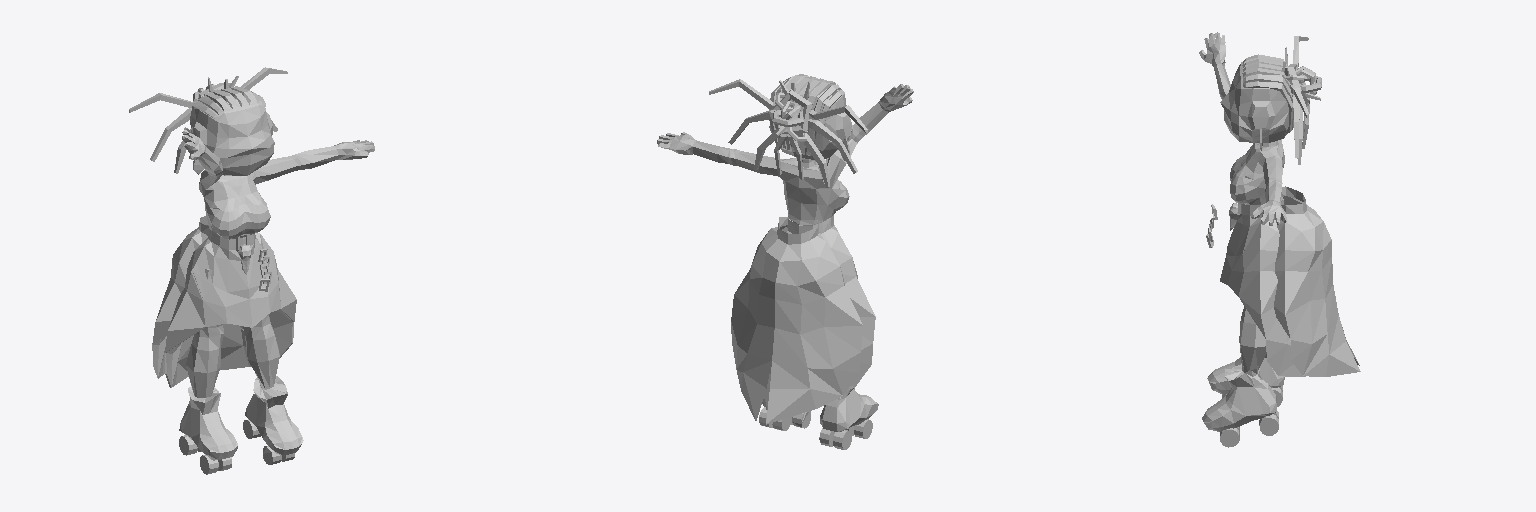
Rendered from WitchFINAL2_000031.obj.
3 views of the same model, side by side, from view 1: azimuth 30°, elevation 25°; view 2: azimuth 150°, elevation 25°; view 3: azimuth 270°, elevation 25° (orthographic).
Visible parts, largest first — view 1: Body_Cylinder, Torso(Boobies)_Cylinder.002, LegR_Cube.004, LegL_Cube.003, Head_Cylinder.004, ZBody_Cylinder.001, Hair_Cylinder.006, Tail.001_Torus.001; view 2: ZBody_Cylinder.001, Torso(Boobies)_Cylinder.002, Body_Cylinder, LegR_Cube.004, Hair_Cylinder.006, Tail.001_Torus.001, Tail_Torus, Tail.002_Torus.002, Head_Cylinder.004, LegL_Cube.003; view 3: ZBody_Cylinder.001, Body_Cylinder, LegL_Cube.003, Torso(Boobies)_Cylinder.002, Head_Cylinder.004, Hair_Cylinder.006, LegR_Cube.004, Tail_Torus, Tail.002_Torus.002.
Part boxes in pixels (left/top/right/bottom): Body_Cylinder: left=165, top=229, right=296, bottom=387; Torso(Boobies)_Cylinder.002: left=182, top=127, right=374, bottom=239; LegR_Cube.004: left=179, top=269, right=237, bottom=474; LegL_Cube.003: left=243, top=314, right=303, bottom=464; Head_Cylinder.004: left=191, top=88, right=274, bottom=175; ZBody_Cylinder.001: left=152, top=216, right=209, bottom=378; Hair_Cylinder.006: left=190, top=86, right=265, bottom=127; Tail.001_Torus.001: left=129, top=93, right=197, bottom=173; ZBody_Cylinder.001: left=731, top=217, right=862, bottom=424; Torso(Boobies)_Cylinder.002: left=657, top=84, right=913, bottom=225; Body_Cylinder: left=763, top=215, right=875, bottom=409; LegR_Cube.004: left=819, top=388, right=878, bottom=449; Hair_Cylinder.006: left=769, top=74, right=844, bottom=155; Tail.001_Torus.001: left=787, top=105, right=867, bottom=187; Tail_Torus: left=773, top=80, right=812, bottom=141; Tail.002_Torus.002: left=709, top=79, right=787, bottom=174; Head_Cylinder.004: left=769, top=82, right=852, bottom=159; LegL_Cube.003: left=759, top=402, right=810, bottom=430; ZBody_Cylinder.001: left=1274, top=186, right=1360, bottom=376; Body_Cylinder: left=1220, top=199, right=1305, bottom=376; LegL_Cube.003: left=1202, top=250, right=1278, bottom=447; Torso(Boobies)_Cylinder.002: left=1199, top=32, right=1287, bottom=225; Head_Cylinder.004: left=1220, top=62, right=1290, bottom=142; Hair_Cylinder.006: left=1242, top=54, right=1299, bottom=132; LegR_Cube.004: left=1207, top=354, right=1284, bottom=406; Tail_Torus: left=1282, top=47, right=1321, bottom=104; Tail.002_Torus.002: left=1290, top=84, right=1309, bottom=164.
Size of the model in its own units: 10.66 by 16.8 by 6.59.